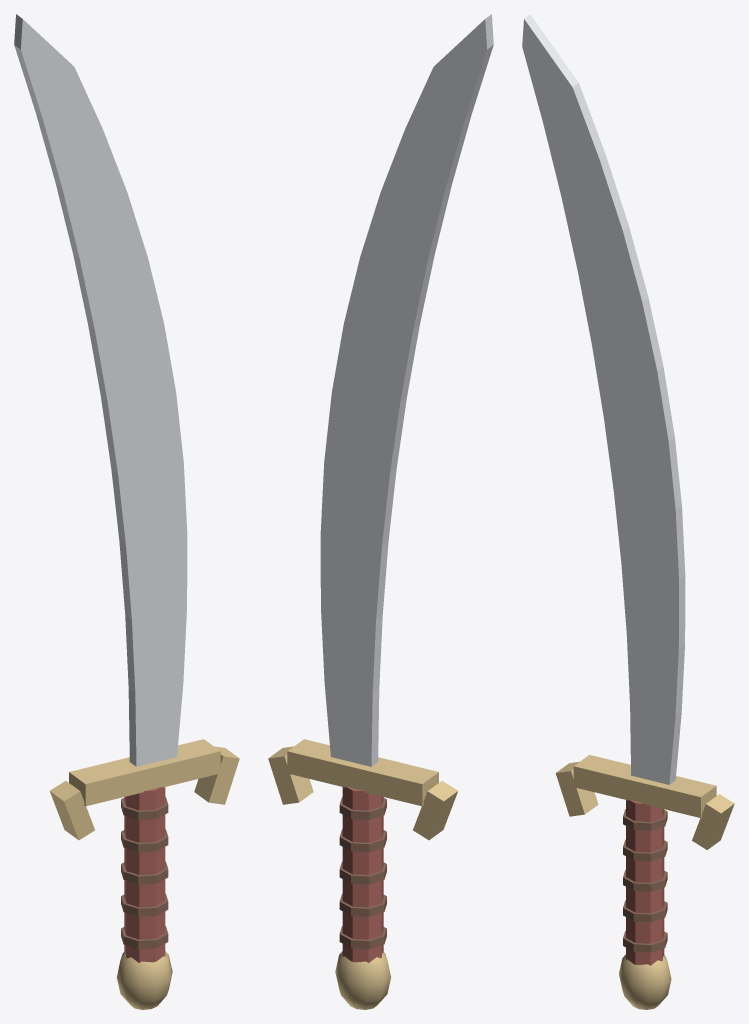
File: Scimitar.gltf
3 views of the same model, side by side, from view 1: azimuth 30°, elevation 25°; view 2: azimuth 150°, elevation 25°; view 3: azimuth 330°, elevation 25° (orthographic). The views are drawn at different scales.
Parts seen in each view (by area): view 1: Scimitar; view 2: Scimitar; view 3: Scimitar.
Part boxes in pixels (bbox=[...]): Scimitar: bbox=[14, 14, 239, 1009]; Scimitar: bbox=[268, 14, 493, 1009]; Scimitar: bbox=[522, 14, 734, 1009].
Bounding box in the file's own units: 0.2232 × 1.01 × 0.048.
